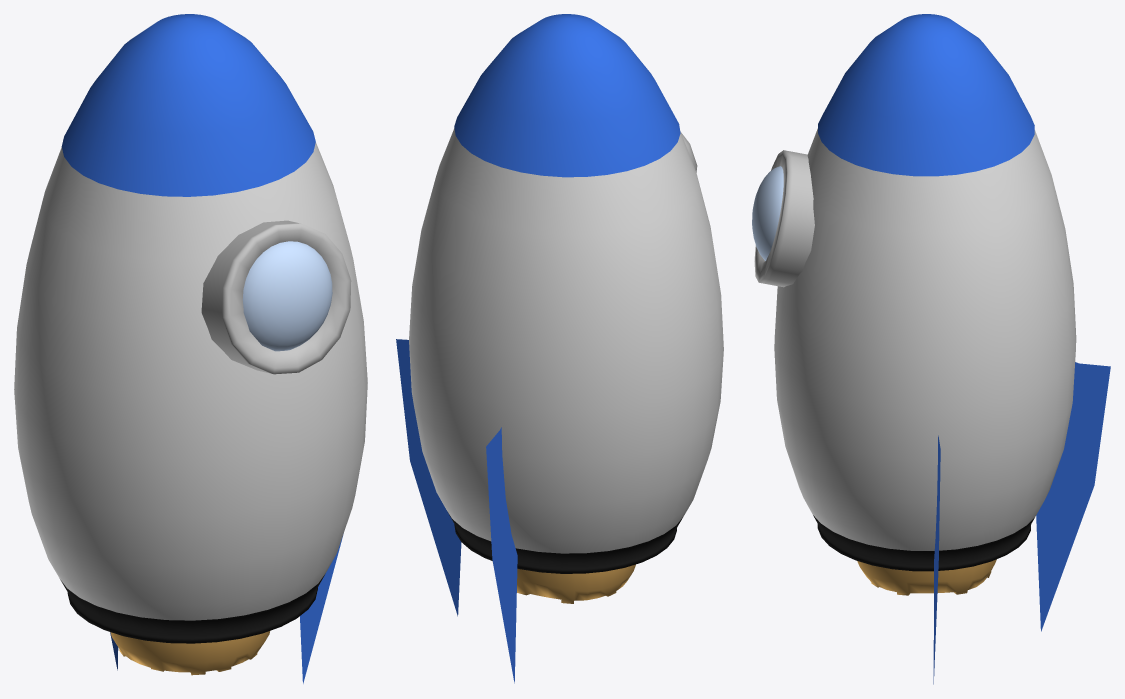
Rendered from rocket.glb.
The picture shows the model from 3 angles, left to right: view 1: azimuth 30°, elevation 25°; view 2: azimuth 150°, elevation 25°; view 3: azimuth 270°, elevation 25°; orthographic projection. The views are drawn at different scales.
Visible parts, largest first — view 1: Sphere, Sphere.003, Cylinder, Sphere.001, Sphere.002, Plane; view 2: Sphere, Sphere.003, Plane, Plane.001, Sphere.002; view 3: Sphere, Sphere.003, Plane.001, Cylinder, Sphere.002, Sphere.001, Plane.
Part boxes in pixels (bbox=[...]): Sphere: bbox=[14, 142, 367, 643]; Sphere.003: bbox=[61, 14, 315, 196]; Cylinder: bbox=[201, 220, 351, 374]; Sphere.001: bbox=[242, 241, 332, 351]; Sphere.002: bbox=[110, 631, 269, 675]; Plane: bbox=[300, 535, 343, 683]; Sphere: bbox=[409, 128, 723, 573]; Sphere.003: bbox=[454, 14, 680, 177]; Plane: bbox=[396, 339, 461, 616]; Plane.001: bbox=[486, 427, 517, 683]; Sphere.002: bbox=[492, 562, 635, 603]; Sphere: bbox=[774, 128, 1076, 571]; Sphere.003: bbox=[818, 14, 1034, 176]; Plane.001: bbox=[1036, 362, 1110, 631]; Cylinder: bbox=[754, 150, 814, 287]; Sphere.002: bbox=[857, 559, 996, 595]; Sphere.001: bbox=[752, 166, 783, 260]; Plane: bbox=[933, 435, 940, 684].
Size of the model in its own units: 4.38 by 8.69 by 4.59.
